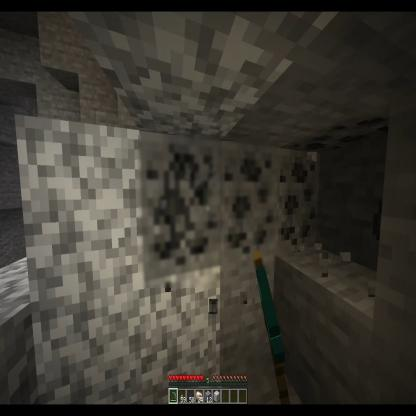coal ore: (138, 135, 220, 288), (218, 141, 277, 270)
